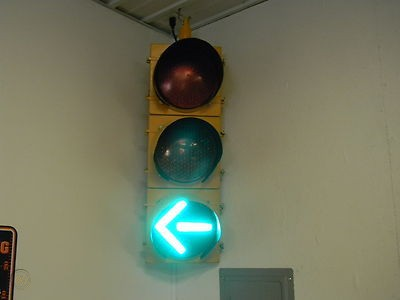trafficlight_green: (149, 40, 226, 261)
